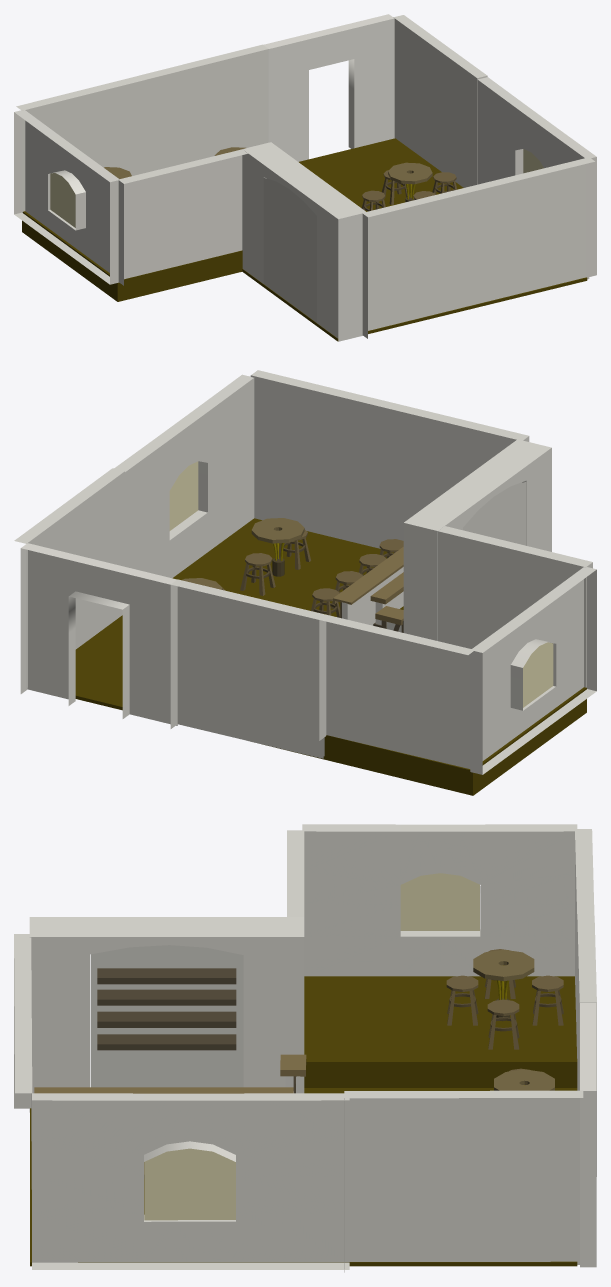
The model's file is barr.fbx.
3 renders of one model, top to bottom at view 1: azimuth 30°, elevation 25°; view 2: azimuth 150°, elevation 25°; view 3: azimuth 270°, elevation 25°, orthographic. The views are drawn at different scales.
Parts seen in each view (by area): view 1: pCube75, pCube67, pCube70, pCube73, pCube18, pCube82, pCube74, pPlane9, pCube83, pCube69, pCube19, pasted__pCylinder9; view 2: pCube75, pCube70, pCube83, pCube69, pPlane9, pCube73, pCube82, pCube67, pCube18, pCube74, pCube19, polySurface4 (+4 smaller); view 3: pCube83, pCube82, pCube74, pPlane9, pCube18, pCube19, pCube63, pCube73, pCube75, polySurface4, pCube70, pCube69 (+6 smaller).
Part boxes in pixels (box(x1,y1,x2,y2)): pCube75: box(362, 157, 594, 338); pCube67: box(118, 149, 247, 285); pCube70: box(139, 44, 268, 172); pCube73: box(263, 14, 394, 161); pCube18: box(242, 142, 366, 341); pCube82: box(14, 110, 118, 284); pCube74: box(393, 15, 487, 187); pPlane9: box(22, 138, 587, 341); pCube83: box(477, 77, 596, 277); pCube69: box(16, 75, 145, 212); pCube19: box(263, 177, 316, 322); pasted__pCylinder9: box(388, 162, 432, 202); pCube75: box(250, 370, 529, 548); pCube70: box(170, 579, 326, 758); pCube83: box(114, 374, 254, 578); pCube69: box(319, 615, 474, 768); pPlane9: box(75, 518, 586, 795); pCube73: box(20, 543, 177, 725); pCube82: box(470, 567, 596, 774); pCube67: box(438, 526, 592, 687); pCube18: box(403, 439, 551, 640); pCube74: box(14, 468, 124, 688); pCube19: box(463, 481, 526, 545); polySurface4: box(333, 547, 403, 625); pCube83: box(32, 1093, 349, 1269); pCube82: box(302, 824, 577, 976); pCube74: box(344, 1090, 583, 1272); pPlane9: box(30, 976, 577, 1266); pCube18: box(29, 917, 304, 1112); pCube19: box(91, 945, 243, 1087); pCube63: box(97, 968, 236, 1050); pCube73: box(580, 1003, 596, 1267); pCube75: box(14, 934, 32, 1189); polySurface4: box(34, 1054, 306, 1093); pCube70: box(577, 915, 596, 1176); pCube69: box(575, 829, 594, 1058).
Bounding box in the file's own units: 25.32 × 7.6 × 22.73.
